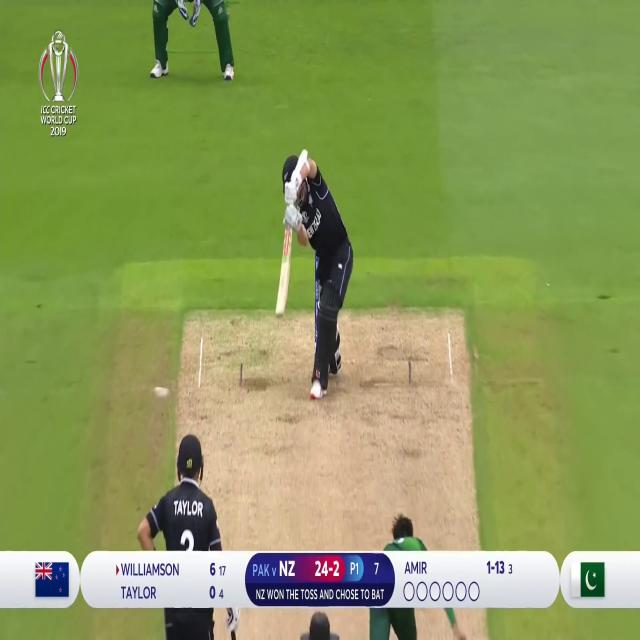bat: (276, 225, 293, 317)
toe: (276, 313, 285, 318)
